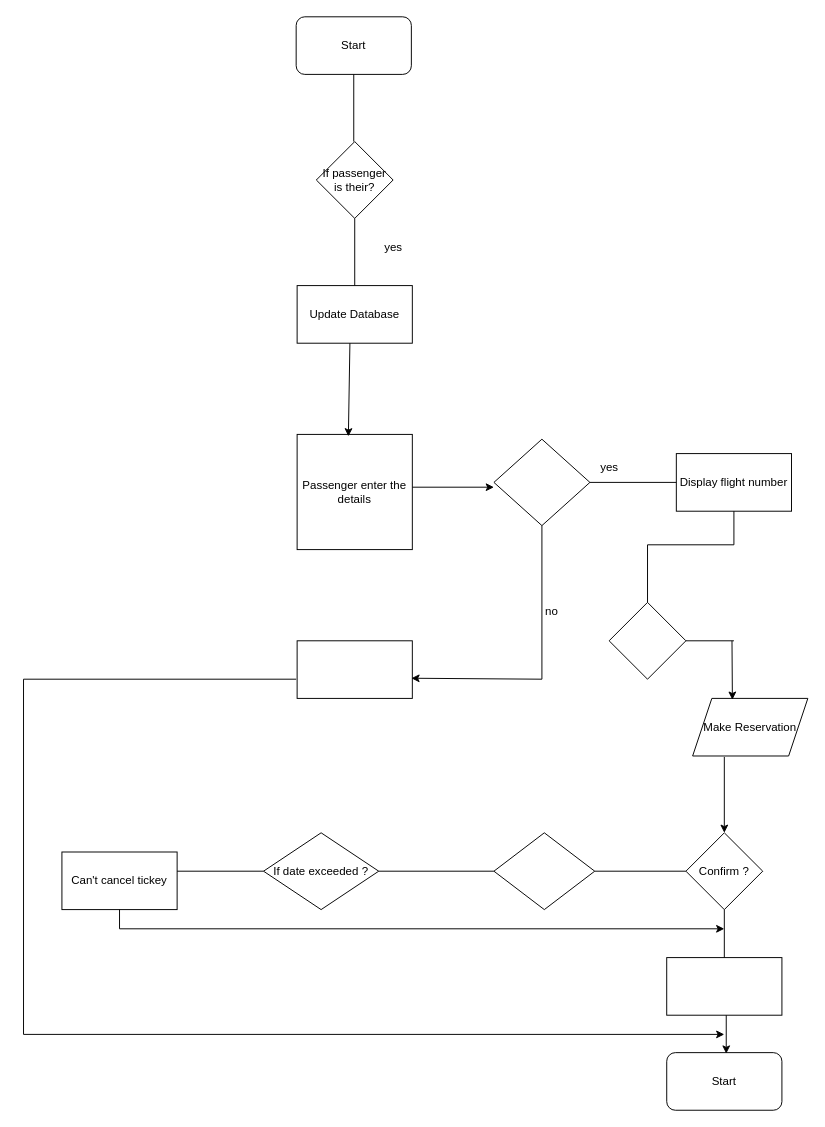
Image size: 825x1127. Some labels were removed from this diagram. The centre of each missing label's shape, as x and y in pixels:
"Buy ticket ?" goes at pixel 647 640.
"Cancel Ticket ?" goes at pixel 544 871.
"If seat available" goes at pixel 541 482.
"no seat available" goes at pixel 354 669.
"System access user profile" goes at pixel 724 986.
